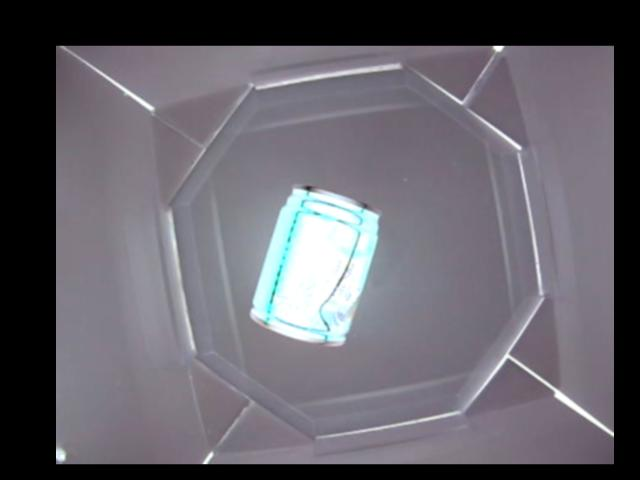Bottle: (246, 183, 383, 347)
